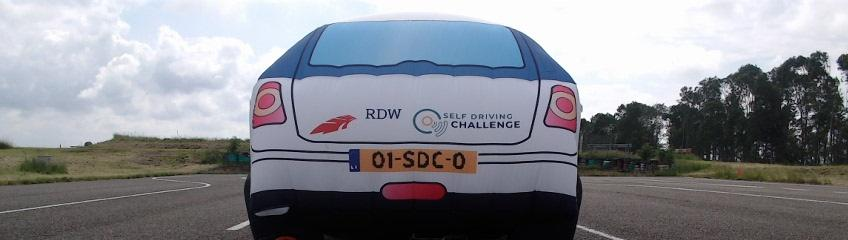Car: (244, 9, 581, 240)
